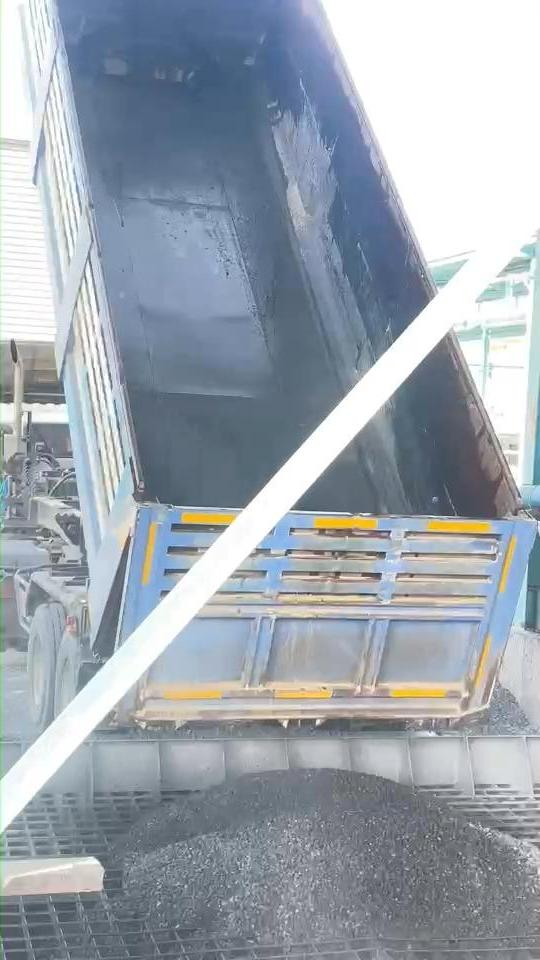gravel: (118, 770, 540, 941), (461, 684, 540, 734)
